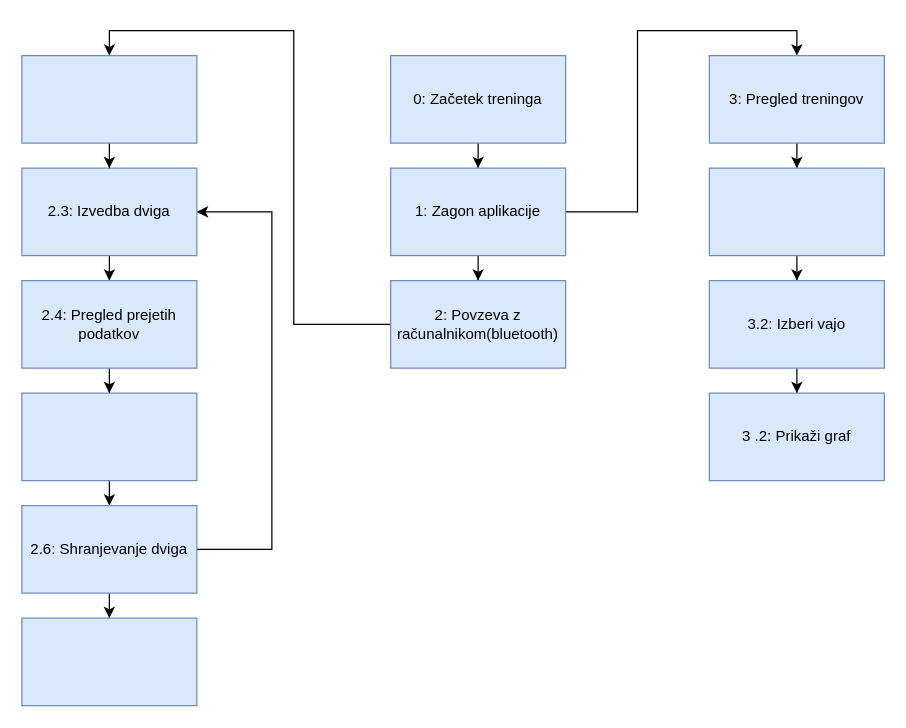
Some shapes in this 906 by 728 pixel diagram are drawn without their labels. Here are the shapes that lost their labels. From the top down, the centre of each, then its label:
At point (109, 98): "2.1: Nov trening".
At point (796, 211): "3.1: Izberi graf".
At point (109, 436): "2.5: Dodajanje videa, komentarja, teže, RPE".
At point (109, 661): "2.7: Zaključek treninga".
